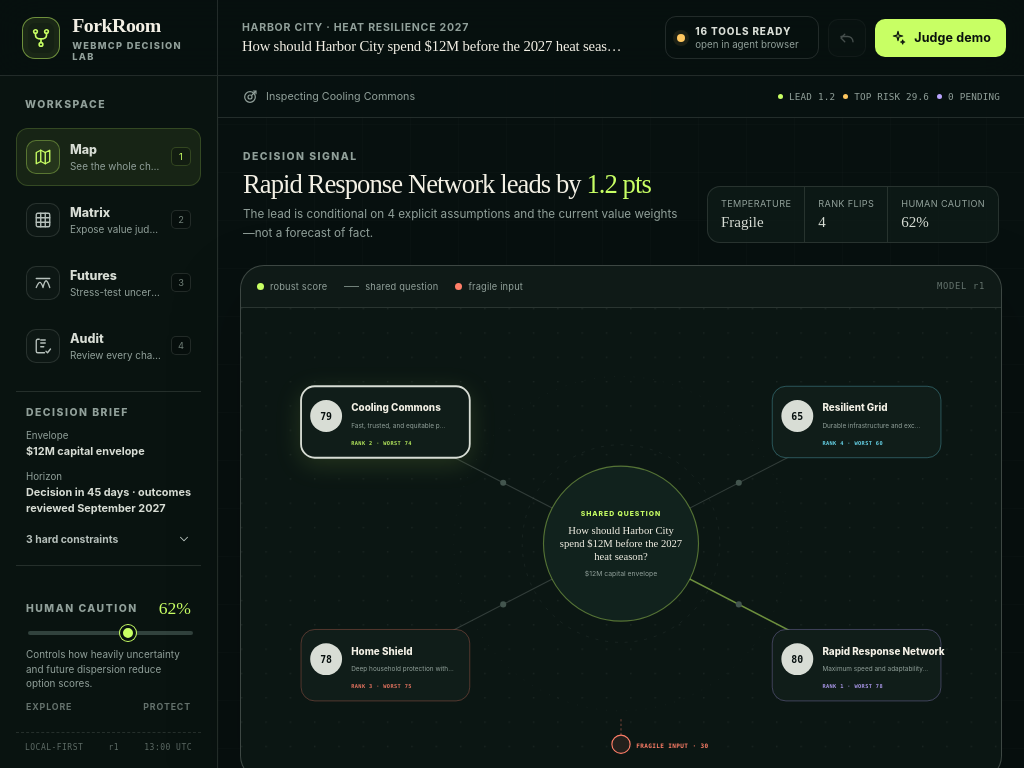
Test case: ForkRoom product experience › shows the protocol design and all tool categories in the visible interface
Click the button "16 TOOLS READY open in agent browser".
click(742, 38)  # box [665,16,819,59]
(page scrolled)
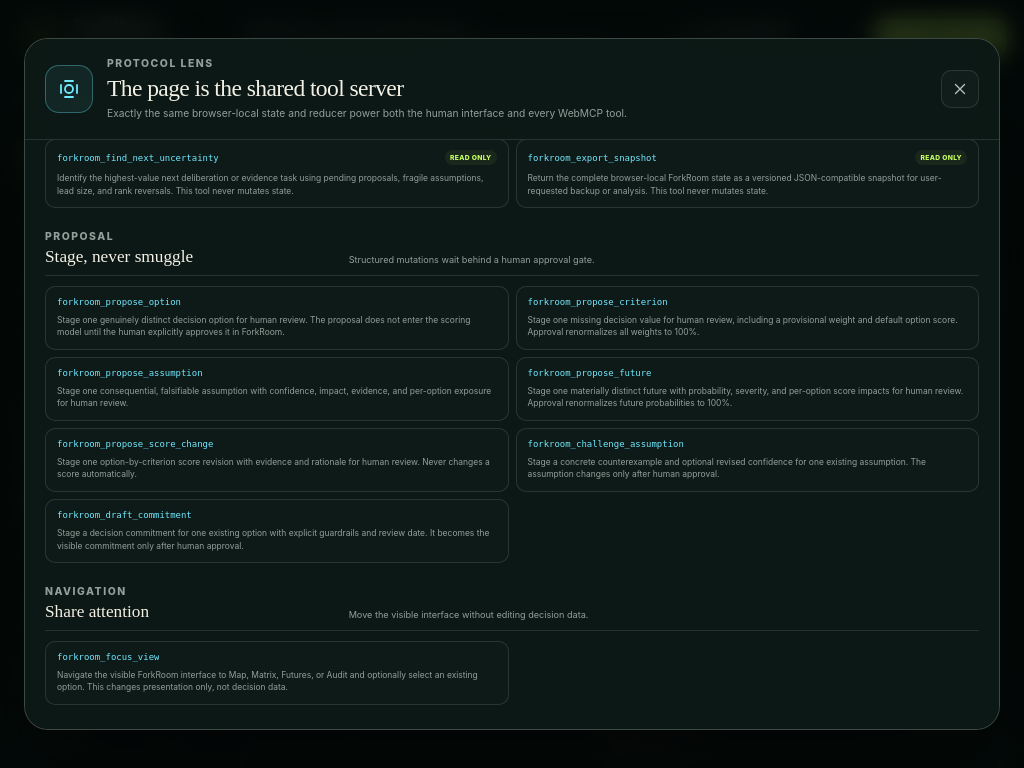
Check: the dialog "The page is the shared tool server" is shown
Check: the heading "Stage, never smuggle" is shown, box [45,247,193,266]
Check: the heading "Share attention" is shown, box [45,602,149,621]
